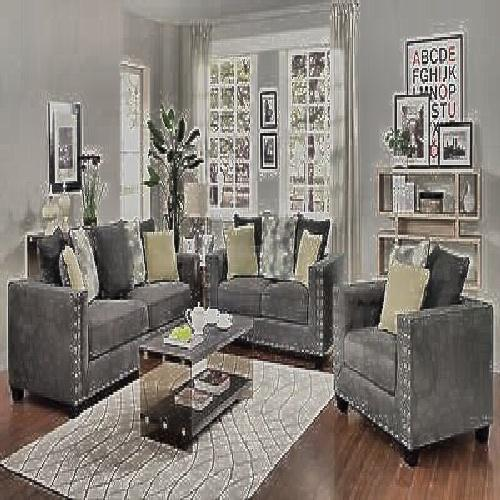sofa: (323, 246, 499, 444), (30, 227, 198, 376), (192, 213, 356, 356)
